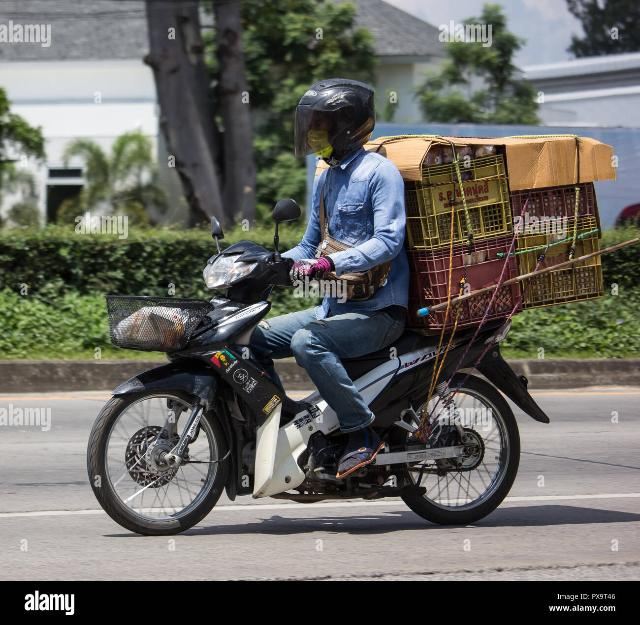helm: (285, 78, 381, 169)
motor: (84, 194, 558, 543)
